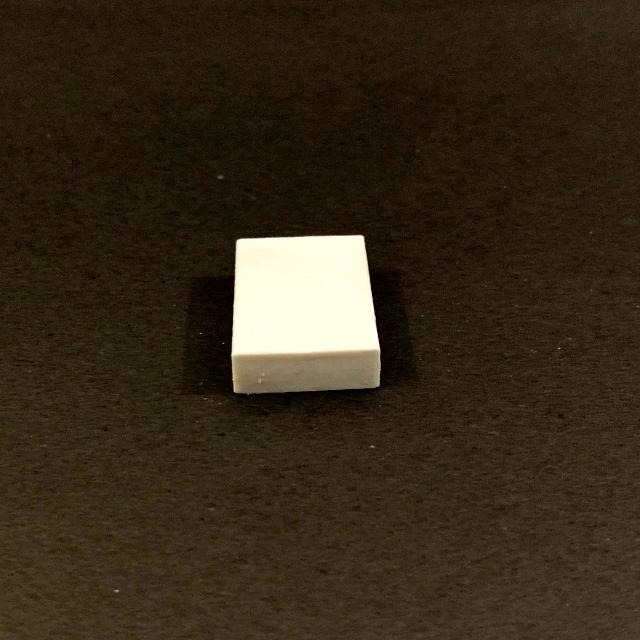Eraser: (186, 204, 416, 422)
